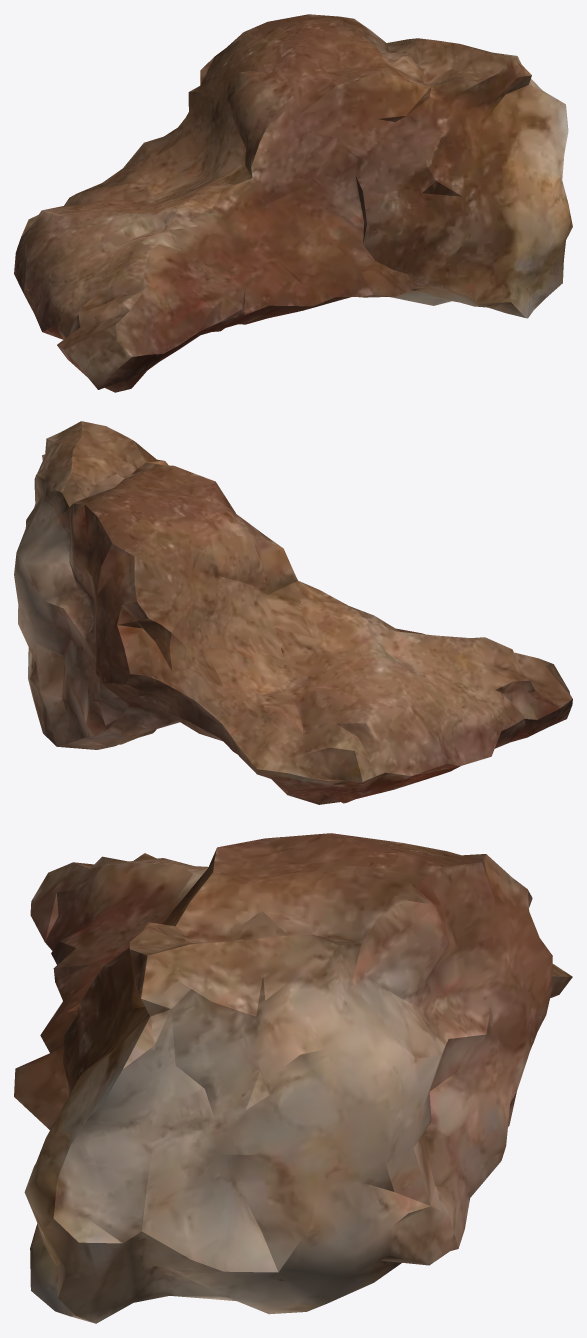
File: stones-pebbles.glb
The picture shows the model from 3 angles, top to bottom: view 1: azimuth 30°, elevation 25°; view 2: azimuth 150°, elevation 25°; view 3: azimuth 270°, elevation 25°; orthographic projection. The views are drawn at different scales.
Visible parts, largest first — view 1: stones-pebbles; view 2: stones-pebbles; view 3: stones-pebbles.
Part boxes in pixels (box(x1,y1,x2,y2)): stones-pebbles: box(14, 14, 572, 392); stones-pebbles: box(14, 421, 572, 804); stones-pebbles: box(14, 833, 572, 1323).
Bounding box in the file's own units: 0.1458 × 0.0712 × 0.0889.
Materials: 1 (1 with a texture image).
